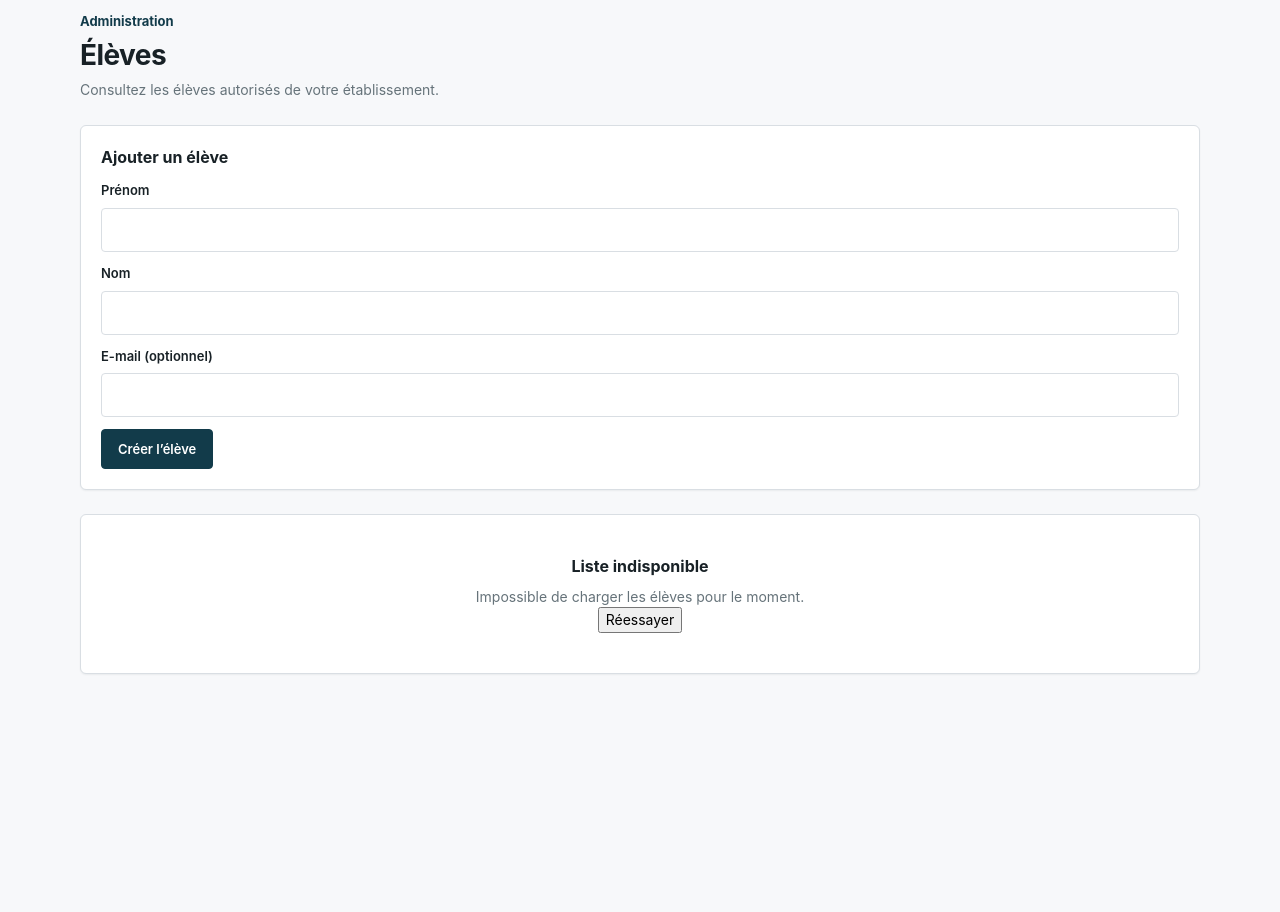
Test: StudentsPage › retries a failed API request
This screenshot has width=1280, height=912.
Click the button "Réessayer" at [640, 620], box [598,607,682,633]
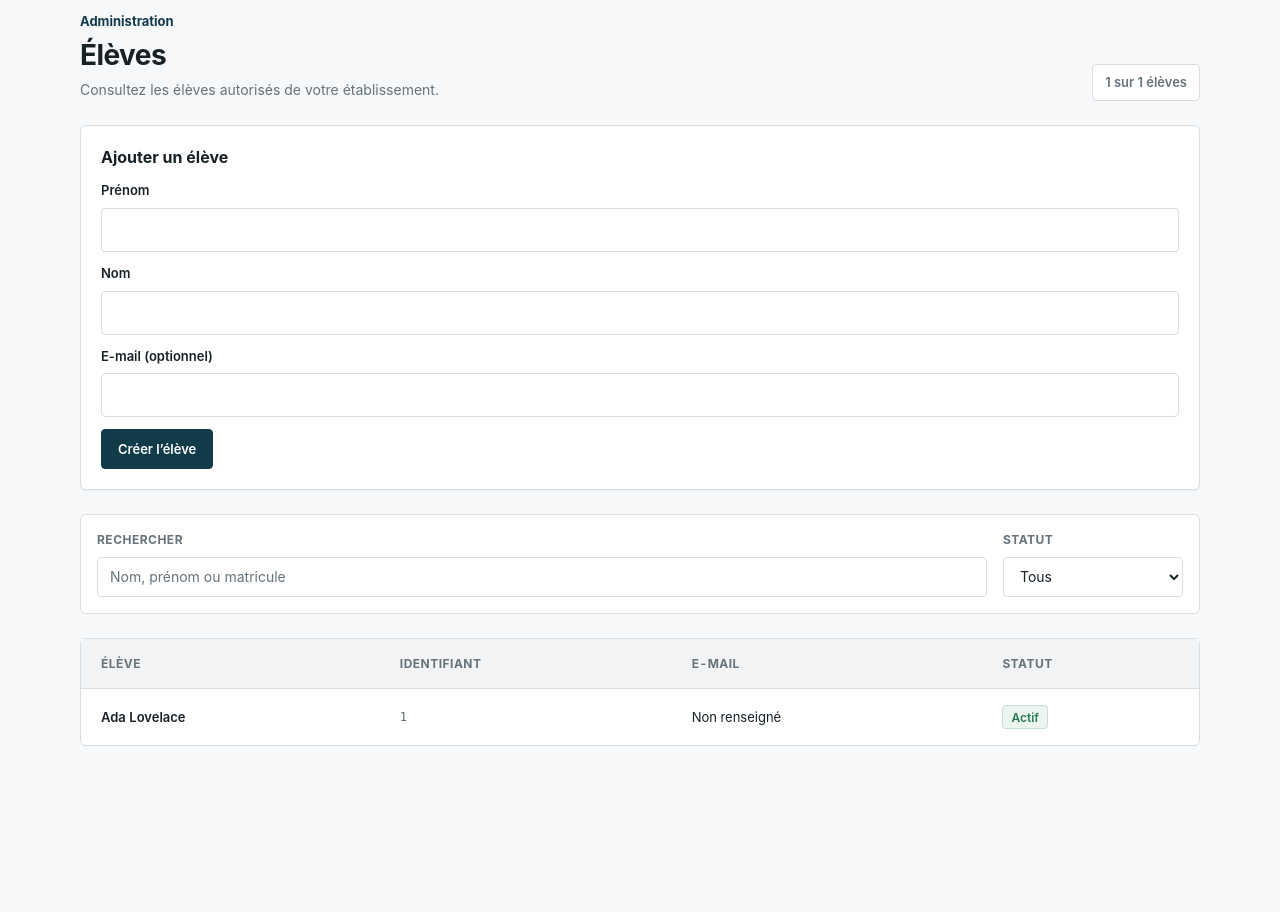
Now the text "Ada Lovelace" is shown, box [101,709,186,725]
